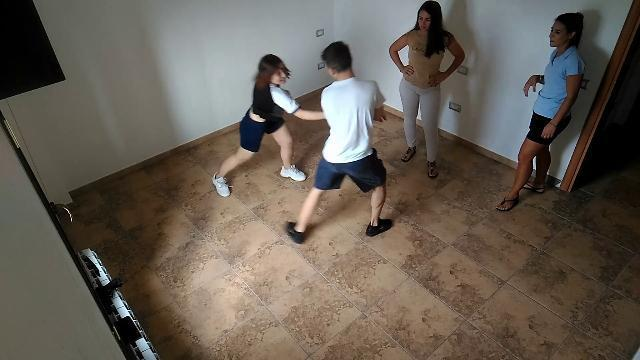non-violence: (494, 11, 588, 214), (387, 1, 468, 181)
violence: (212, 42, 394, 248)
